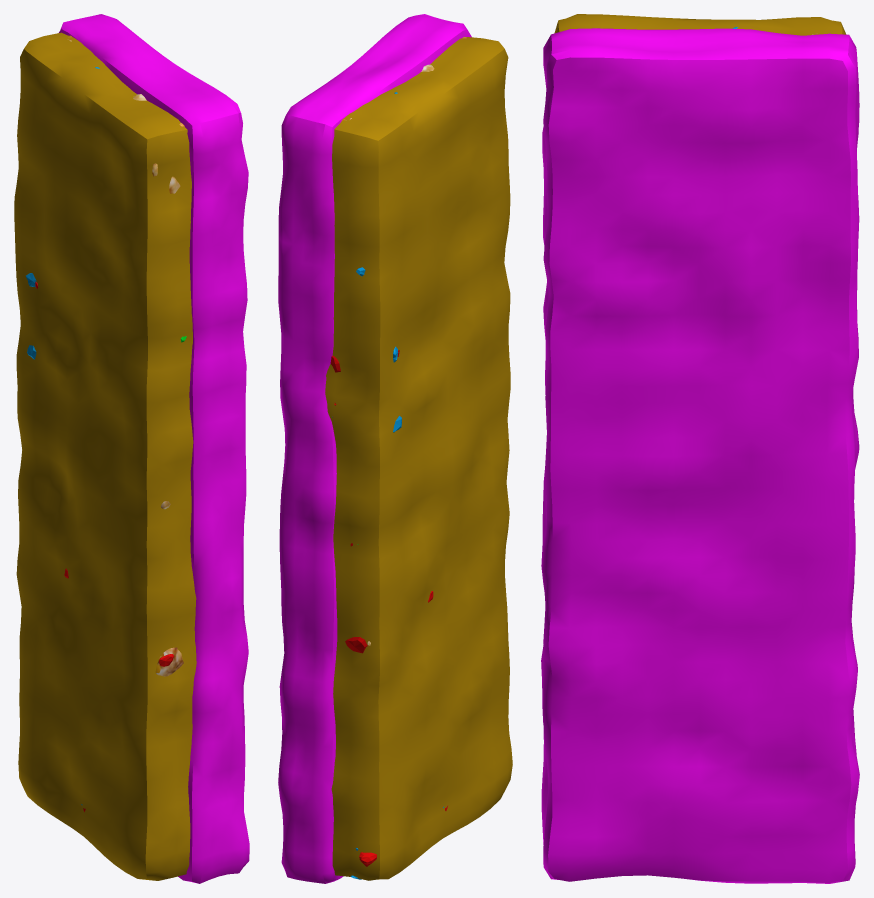
Rendered from farmer.glb.
3 views of the same model, side by side, from view 1: azimuth 30°, elevation 25°; view 2: azimuth 150°, elevation 25°; view 3: azimuth 270°, elevation 25° (orthographic). The views are drawn at different scales.
Parts seen in each view (by area): view 1: Schoko voll, Schoko unten, Farmer Soft; view 2: Schoko voll, Schoko unten, Zutat 1; view 3: Schoko unten, Schoko voll.
Part boxes in pixels (x1,y1,x2,y2): Schoko voll: (14,32,196,880); Schoko unten: (59,14,249,883); Farmer Soft: (67,35,184,676); Schoko voll: (325,37,512,880); Schoko unten: (278,14,471,883); Zutat 1: (330,350,447,866); Schoko unten: (541,28,859,883); Schoko voll: (554,14,846,35).
Bounding box in the file's own units: 0.0148 × 0.0986 × 0.034.
6 materials, 1 textured.
